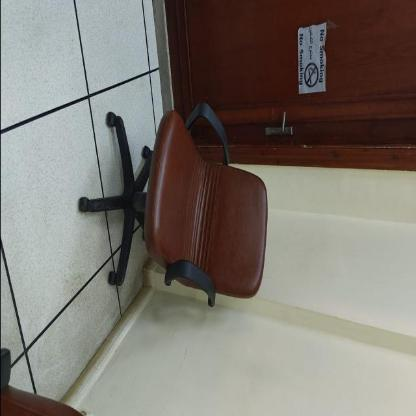chair: (76, 102, 285, 311)
